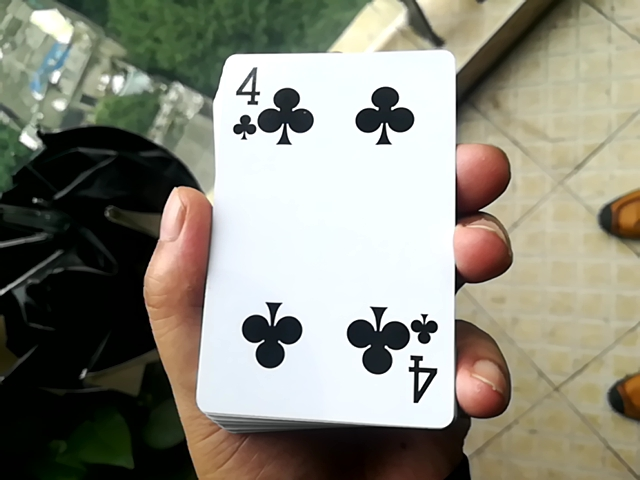mh 4: (192, 35, 460, 431)
